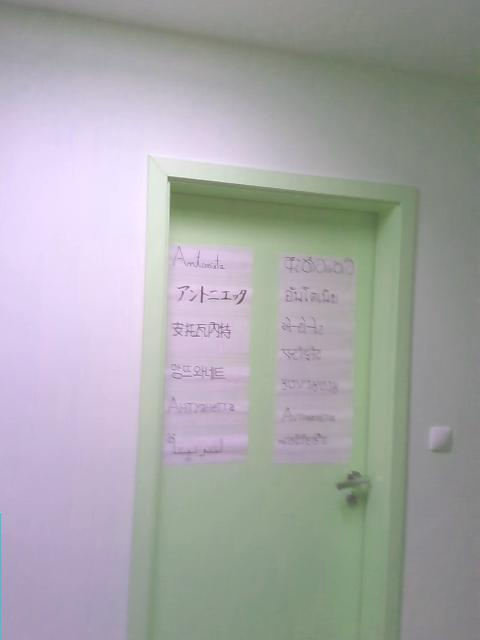closed_door: (127, 153, 422, 638)
